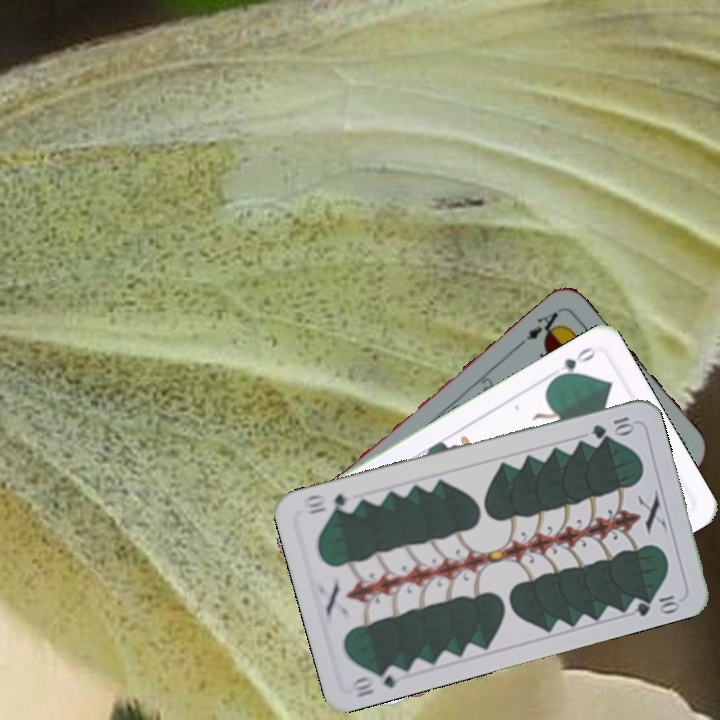EA: (515, 305, 566, 349)
G10: (346, 662, 405, 701), (587, 412, 637, 441)
GO: (548, 343, 600, 384)
